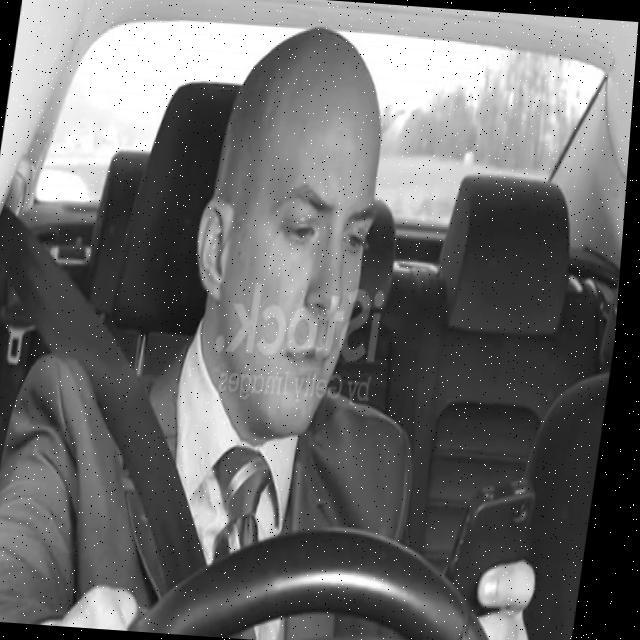PhoneCall: (452, 474, 546, 596)
